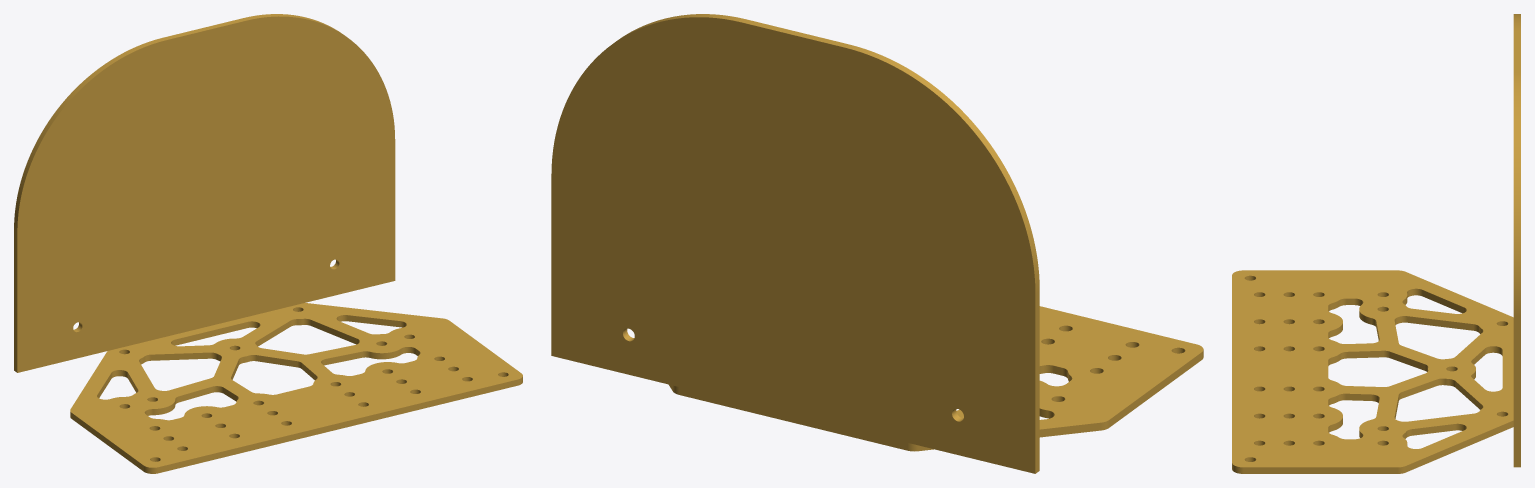
The model's file is Plates.gltf.
The picture shows the model from 3 angles, left to right: view 1: azimuth 30°, elevation 25°; view 2: azimuth 150°, elevation 25°; view 3: azimuth 270°, elevation 25°; orthographic projection. The views are drawn at different scales.
Parts seen in each view (by area): view 1: Part 2, Part 1; view 2: Part 2, Part 1; view 3: Part 1, Part 2.
Part boxes in pixels (x1,y1,x2,y2): Part 2: (14, 14, 395, 372); Part 1: (70, 303, 522, 473); Part 2: (551, 14, 1039, 473); Part 1: (668, 306, 1203, 451); Part 1: (1232, 270, 1513, 473); Part 2: (1513, 14, 1520, 467).
Bounding box in the file's own units: 0.2032 × 0.1556 × 0.1259.
